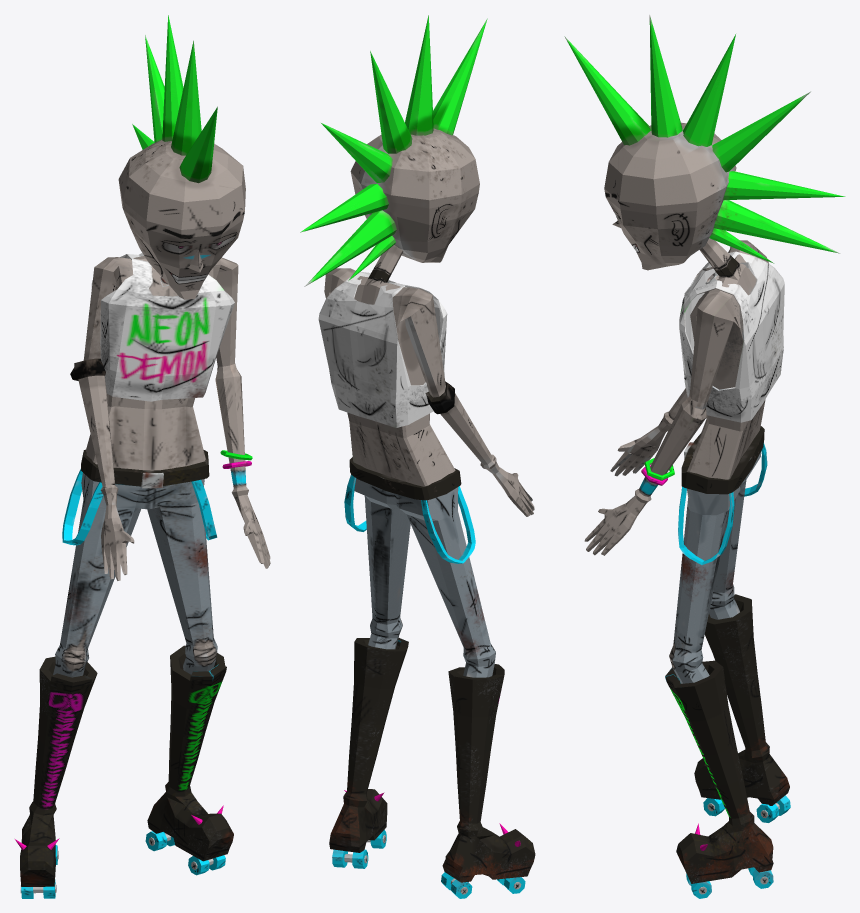
File: punkAnimation_000060.obj
3 views of the same model, side by side, from view 1: azimuth 30°, elevation 25°; view 2: azimuth 150°, elevation 25°; view 3: azimuth 270°, elevation 25° (orthographic). The views are drawn at different scales.
Visible parts, largest first — view 1: Cube.004_Cube.003; view 2: Cube.004_Cube.003; view 3: Cube.004_Cube.003.
Boxes of the visible parts, x1,y1,x2,y2 form: Cube.004_Cube.003: (15,15,270,898); Cube.004_Cube.003: (300,15,535,898); Cube.004_Cube.003: (564,15,845,898).
Bounding box in the file's own units: 1.99 × 7.53 × 2.24.
